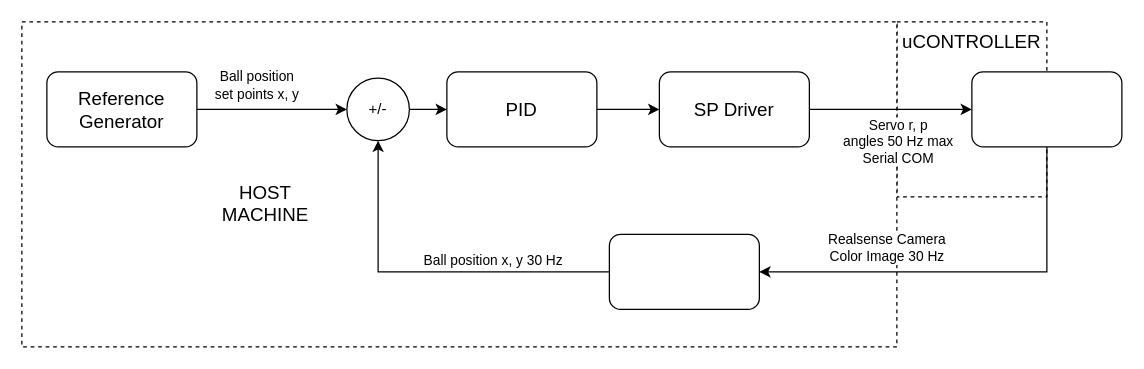
This 1144x369 diagram has some shape labels left out. The centre of each missing label's shape, as x and y in pixels:
"Servo Platform" goes at (1046,109).
"Tracking Algorithm (CSRT)" goes at (683,271).
